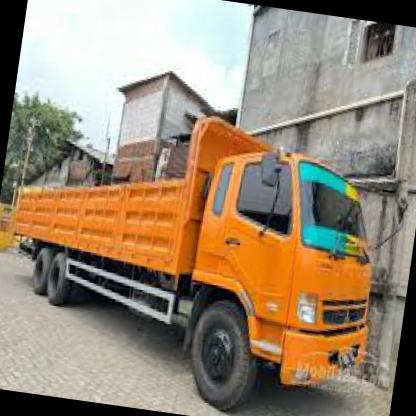truck: (176, 141, 398, 416)
